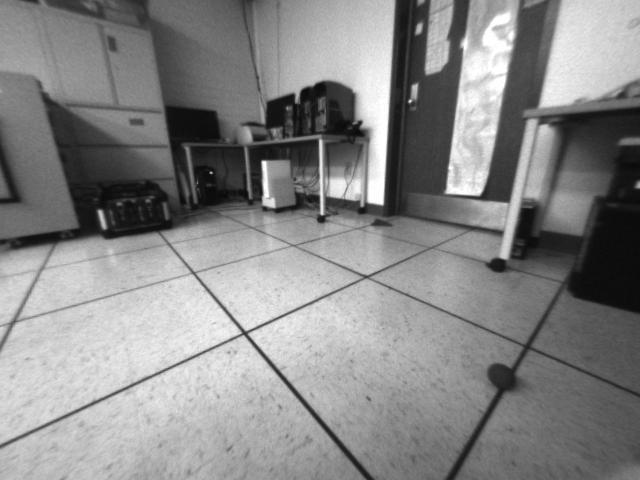dogtoy: (480, 354, 525, 395)
